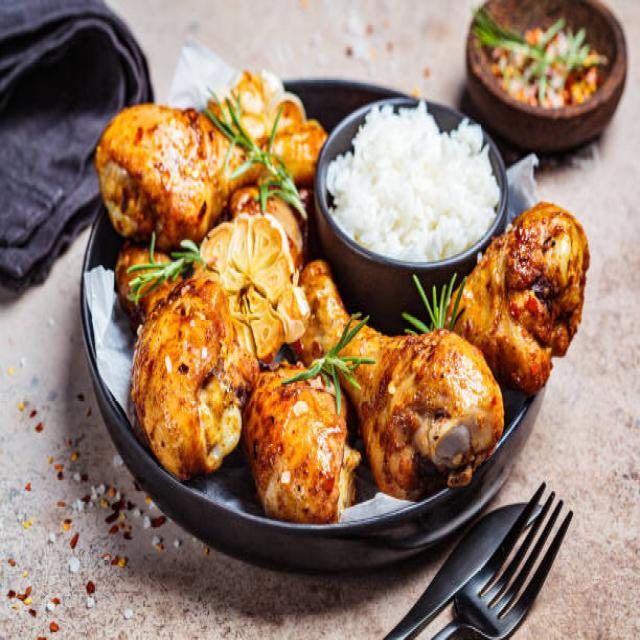Frango: (94, 70, 593, 532)
